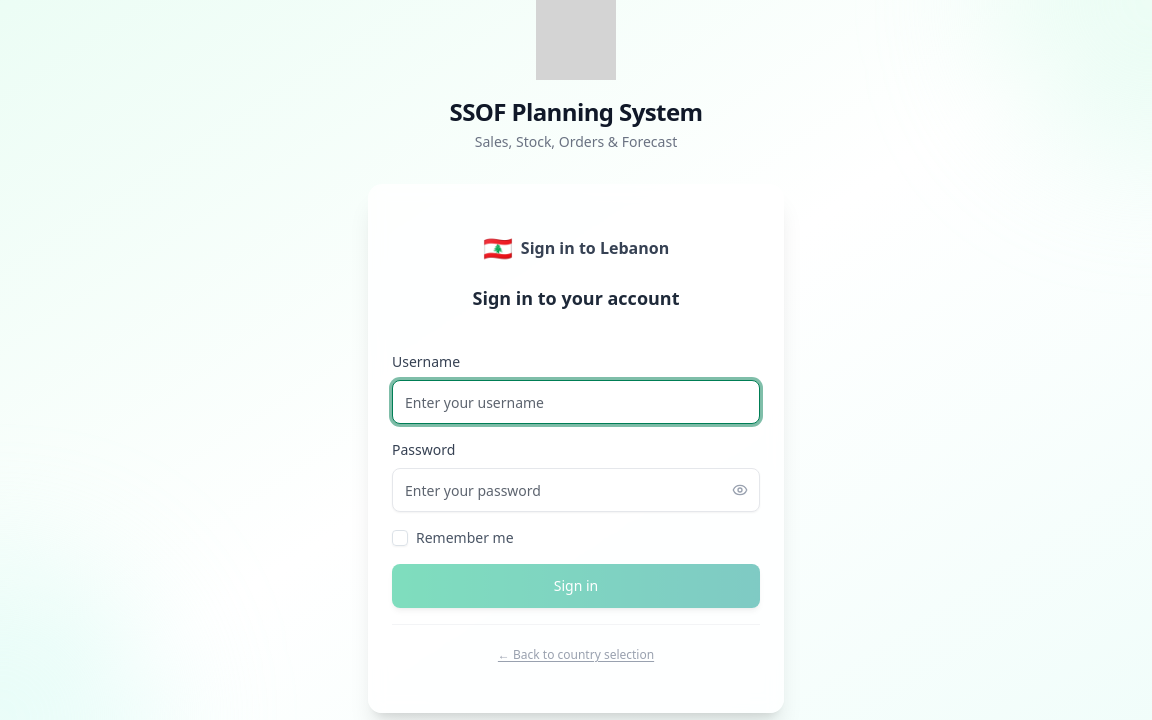
LoginPage › shows the server's error message and does not navigate when login fails
Type "walid" into the field labelled "Username" at [576, 402], box x1=392 y1=380 x2=760 y2=424
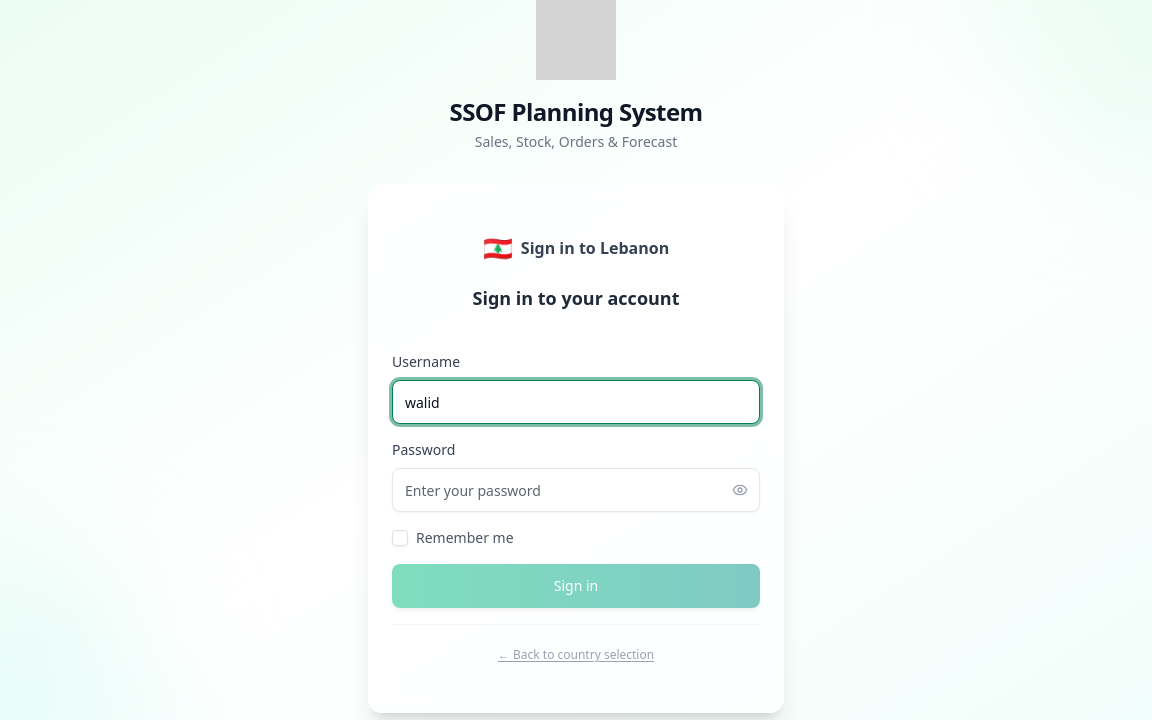
Type "wrongpass" into the password field labelled "Password" at [576, 490], box x1=392 y1=468 x2=760 y2=512
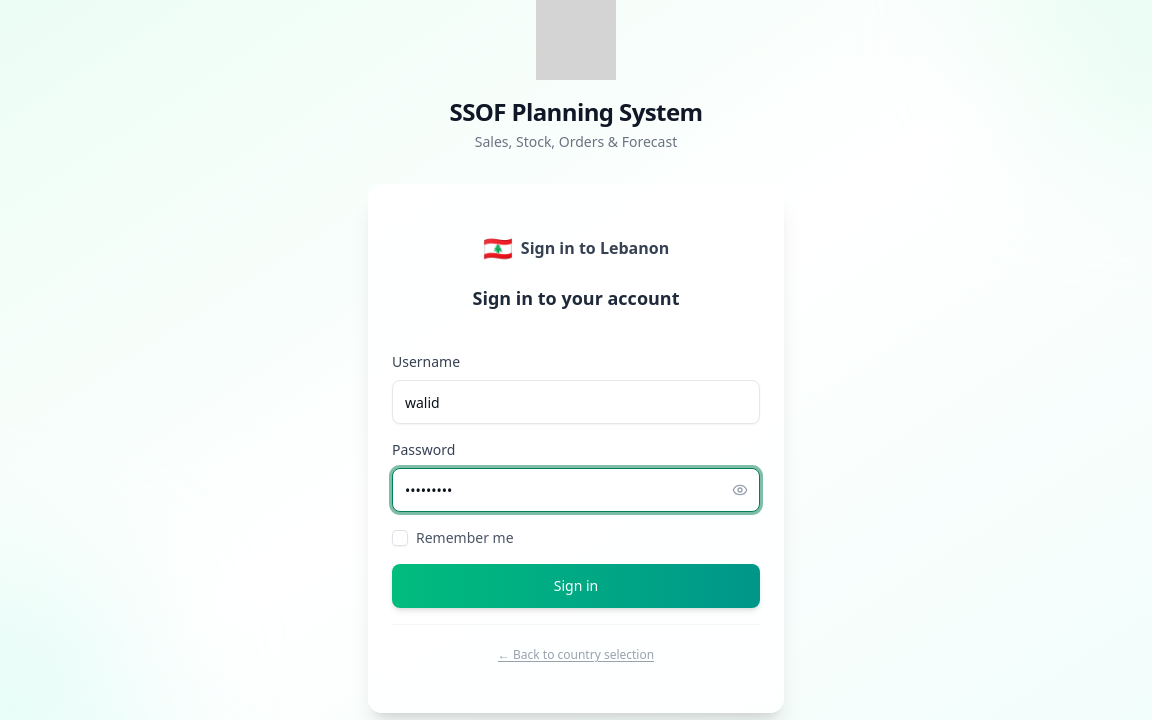
Click the button "Sign in" at [576, 586], box x1=392 y1=564 x2=760 y2=608
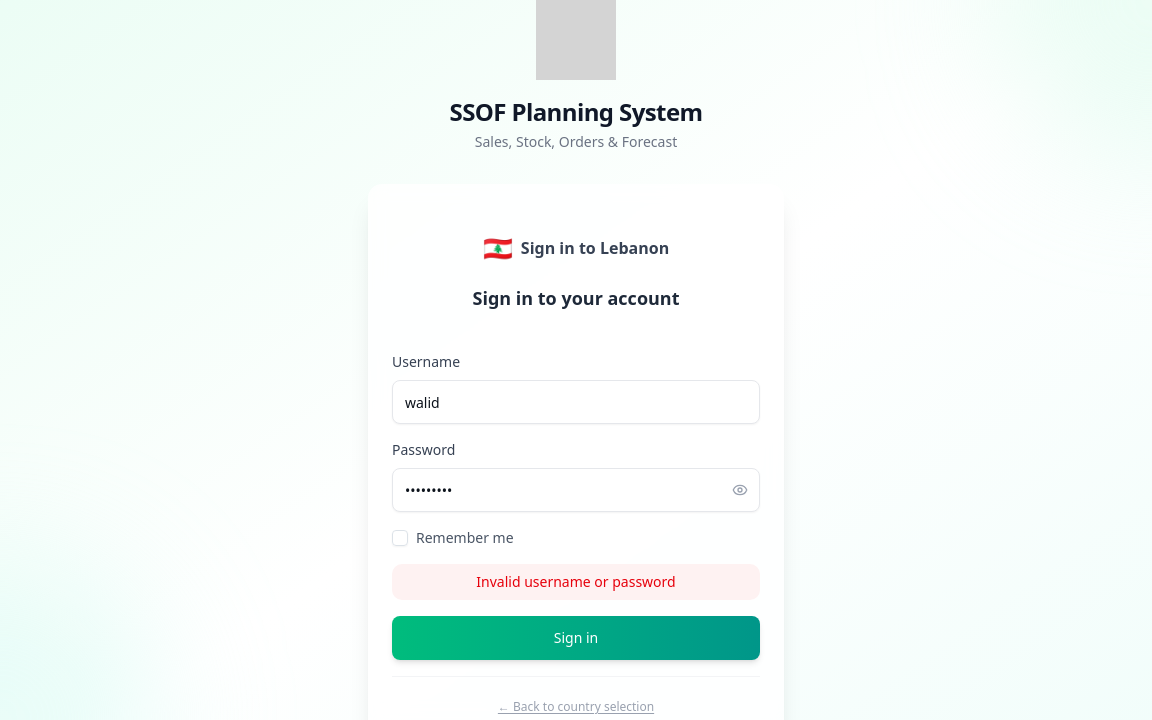
Check: the text "Invalid username or password" is shown, box x1=392 y1=564 x2=760 y2=600
